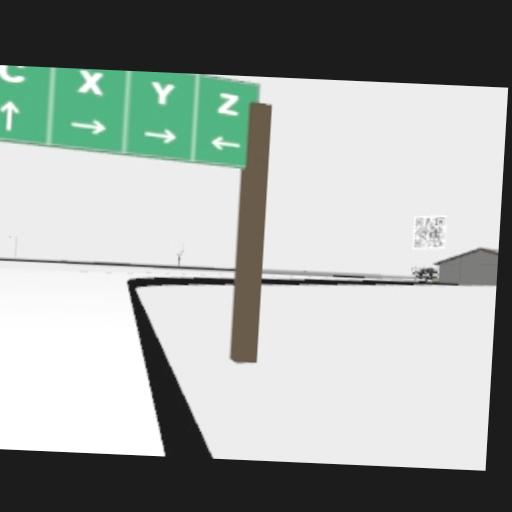C: (0, 64, 26, 82)
Left: (208, 133, 242, 150)
Right: (142, 125, 176, 144), (70, 117, 107, 134)
Straight: (0, 99, 21, 130)
X: (78, 67, 105, 93)
Y: (150, 79, 174, 103)
Z: (217, 90, 240, 114)
